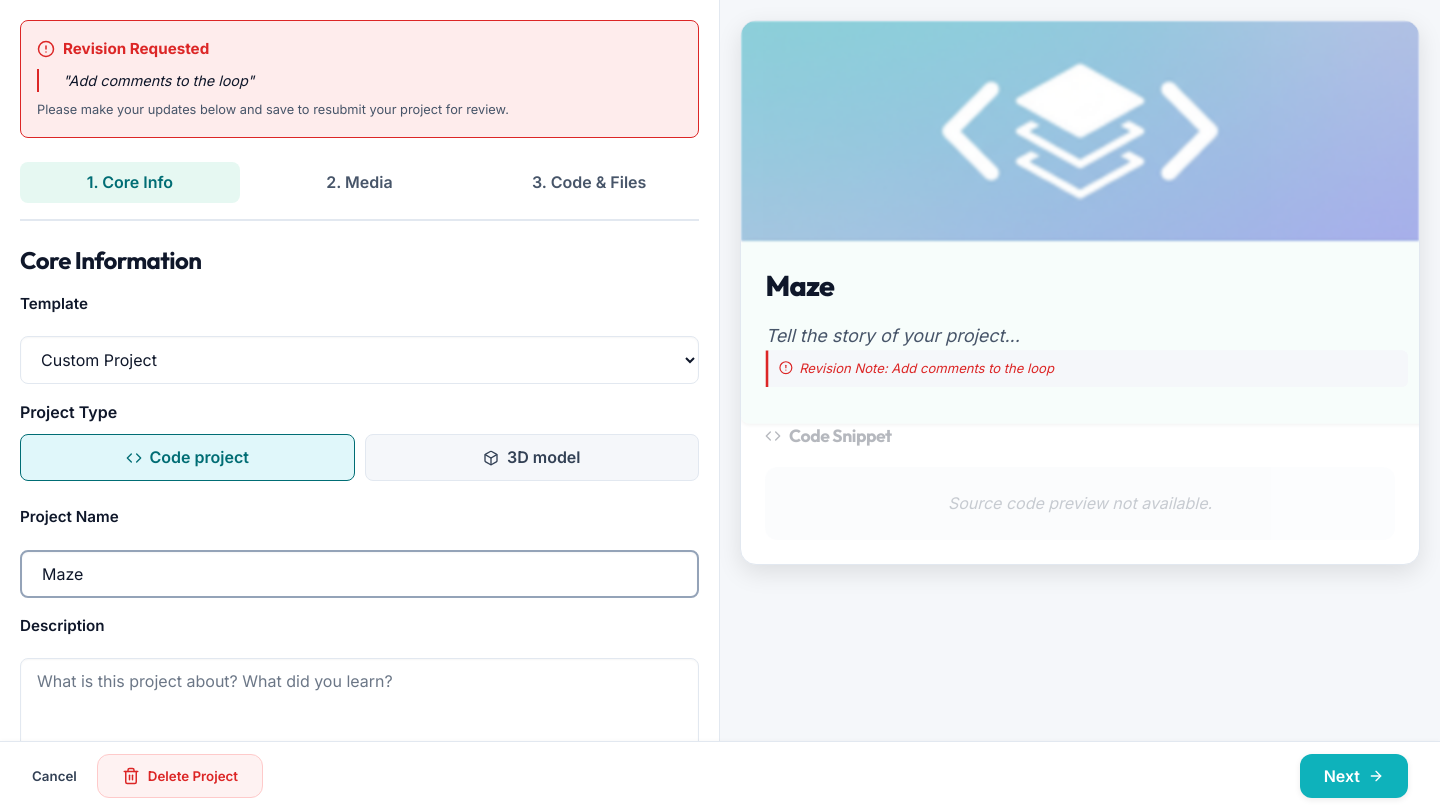
Test case: ManageProject › review feedback › shows the revision banner and the feedback of a rejected project and offers to resubmit
The image size is (1440, 810).
Expected: the heading "Core Information" is shown, [20,245,201,275]
Expected: the element with class "revision-notice-banner" shows "Revision Requested", [63,39,209,58]
Click the button "Next": coordinates (1354, 776) [1300,754,1408,798]
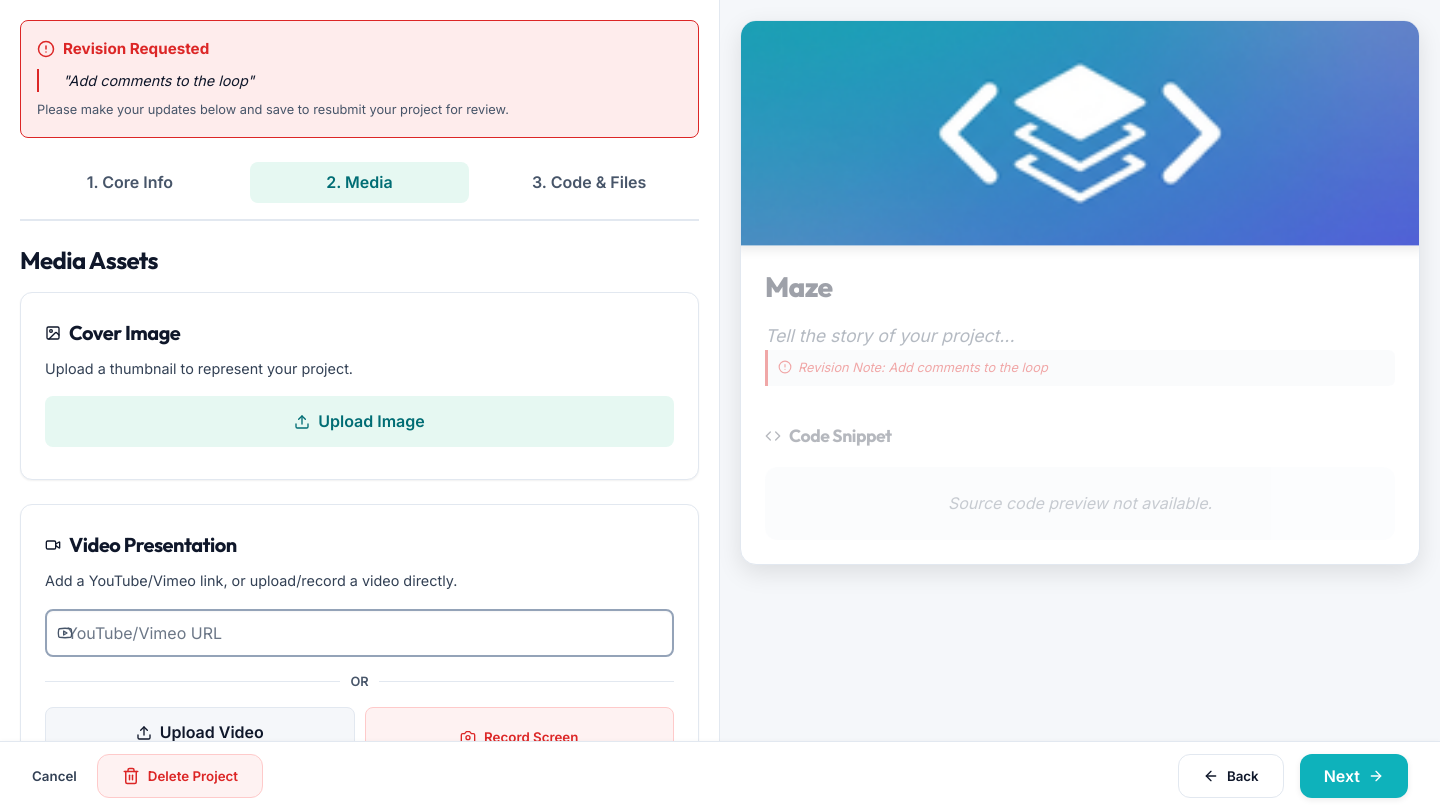
Click the button "Next": coordinates (1354, 776) [1300,754,1408,798]
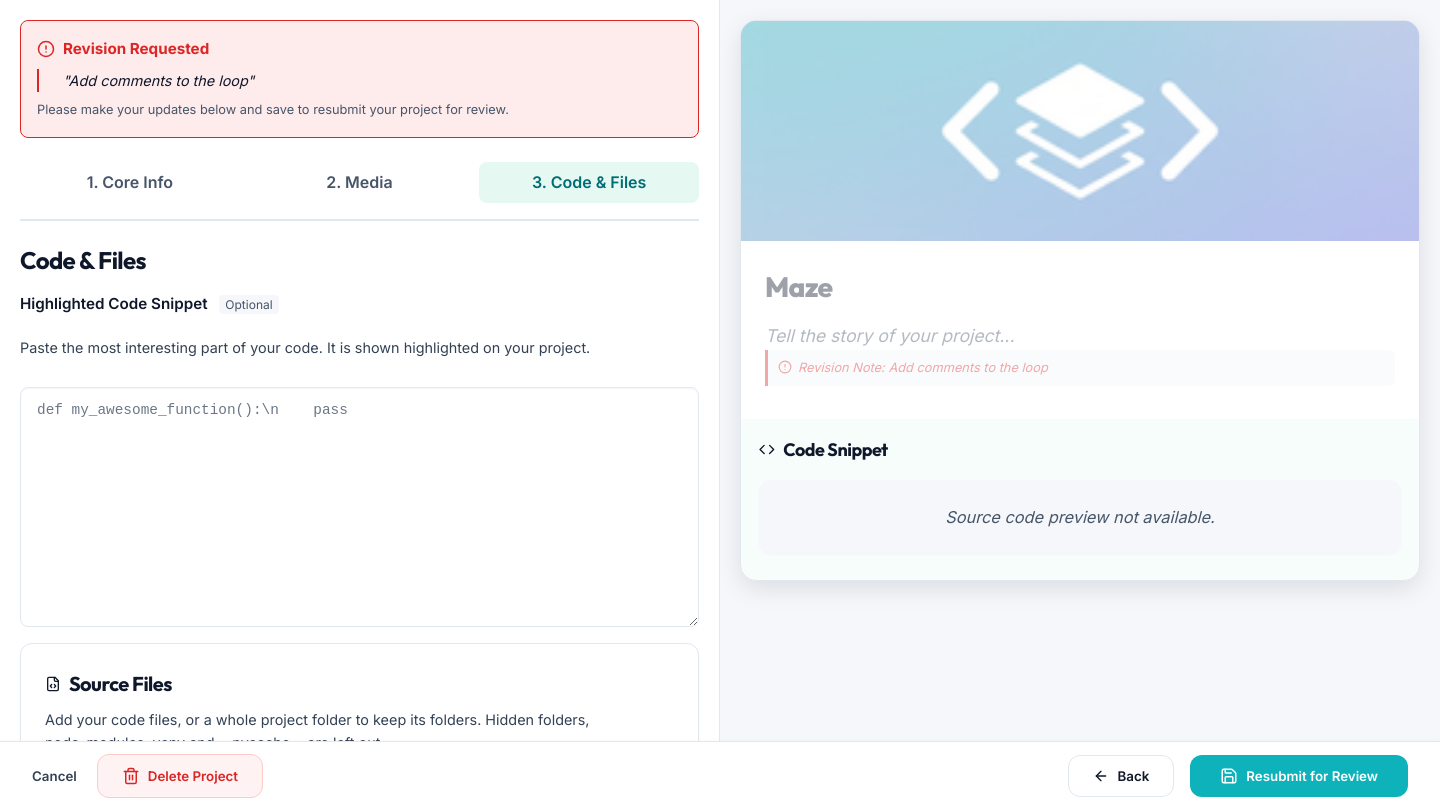
Expected: the button "Resubmit for Review" is shown, [1190,755,1408,797]
